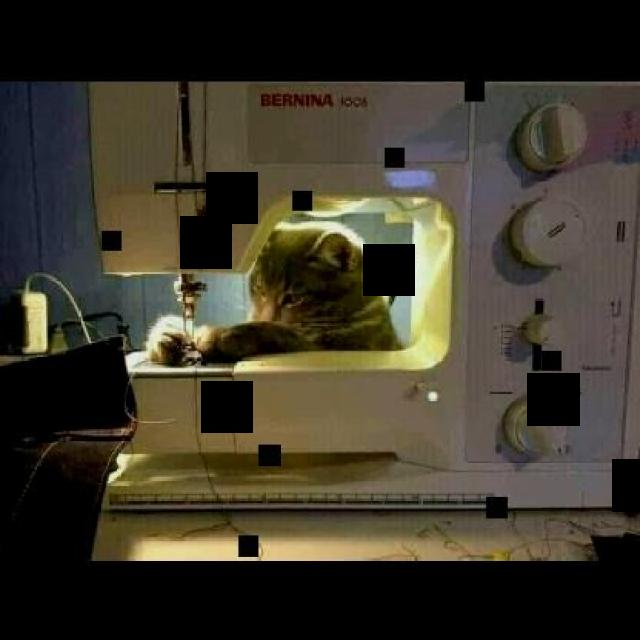unauthorized: (143, 223, 403, 366)
